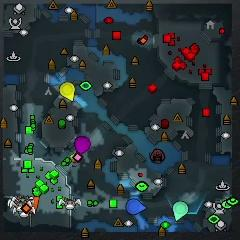p1: (126, 199, 147, 215)
p2: (173, 202, 187, 221)
p3: (74, 135, 91, 157)
p4: (59, 81, 76, 102)
p5: (25, 194, 40, 211)
